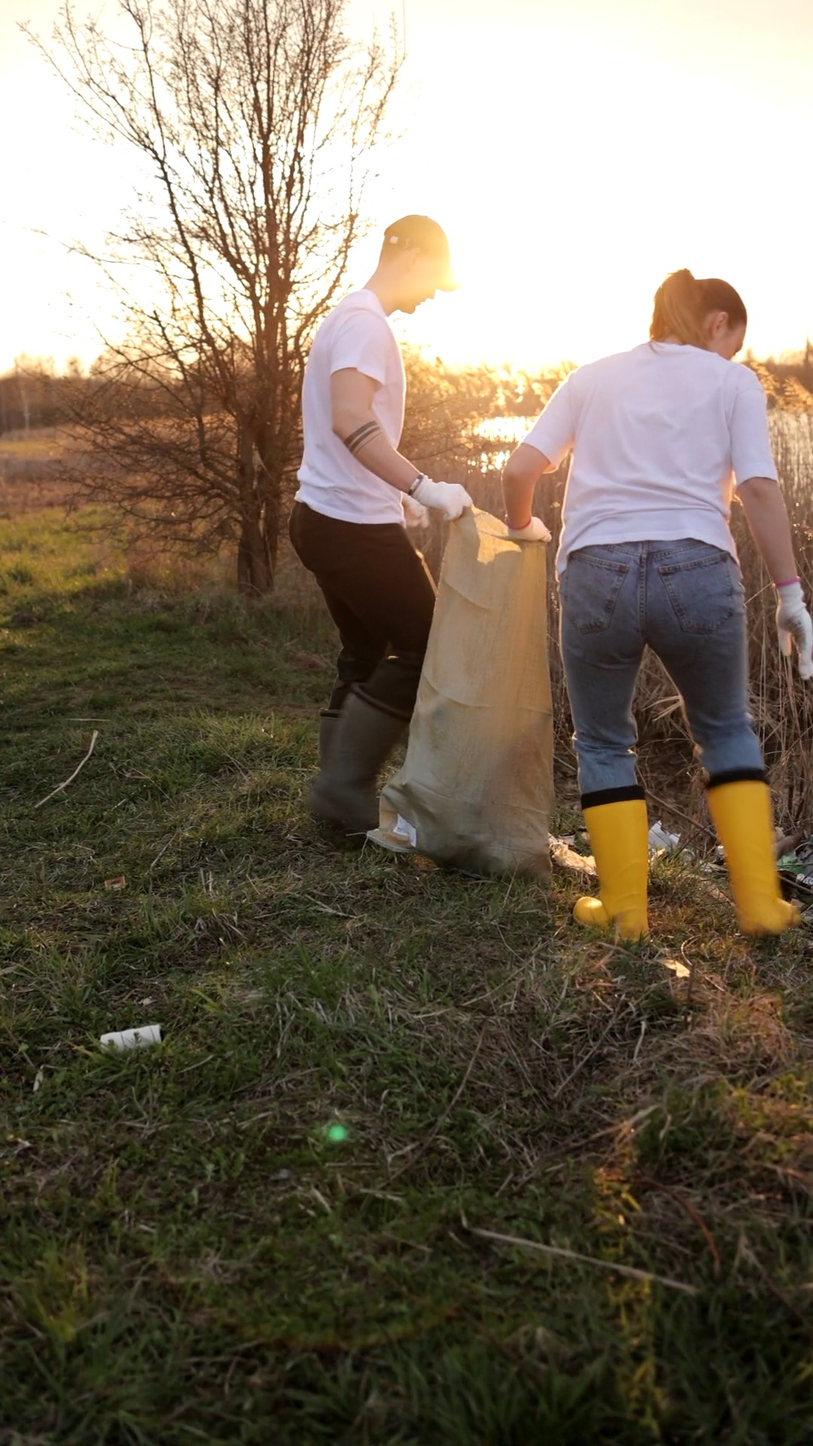gloves: (396, 459, 496, 536), (763, 570, 813, 707)
